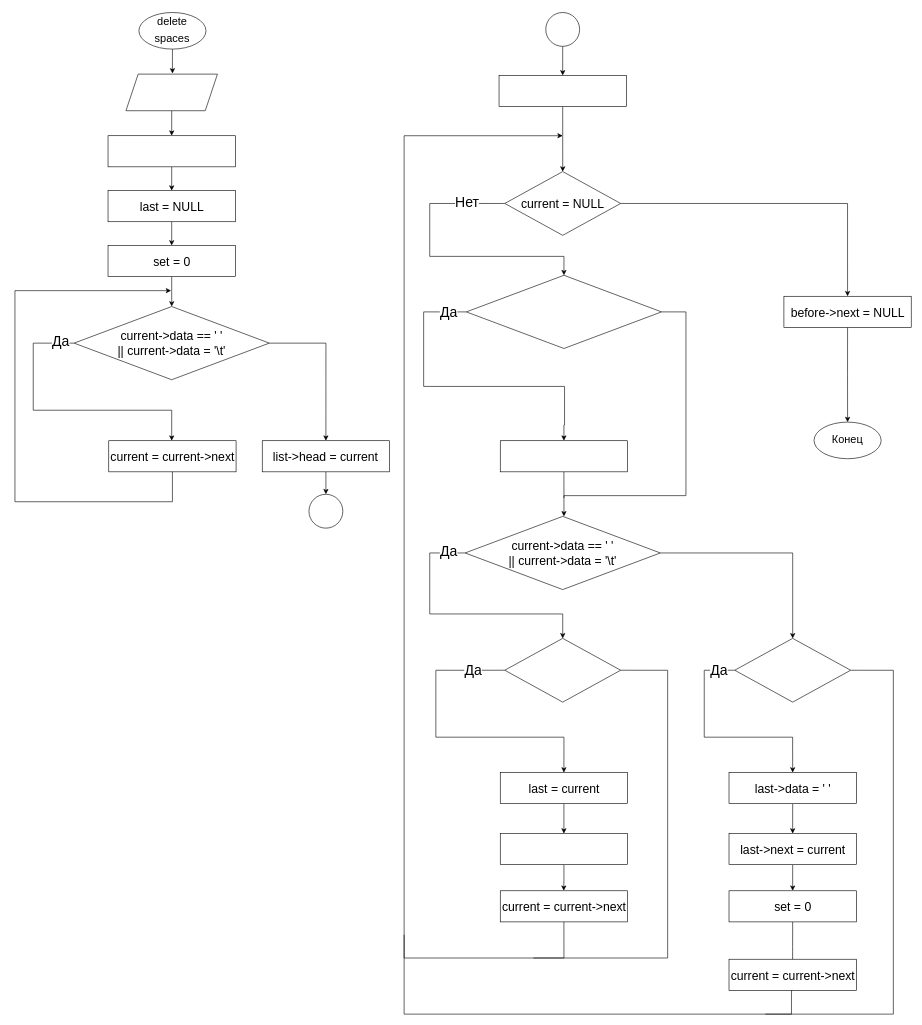
Some shapes in this 922 by 1025 pixel diagram are drawn without their labels. Here are the shapes that lost their labels. From the top down, the centre of each, then its label:
At (x=171, y=92): "Ввод list".
At (x=562, y=91): "before = NULL".
At (x=171, y=151): "current = list->head".
At (x=564, y=311): "current->data != ' ' && current->data != '\t'".
At (x=564, y=456): "before = current".
At (x=562, y=670): "set == 0".
At (x=792, y=670): "set == 1".
At (x=564, y=849): "set = 1".
